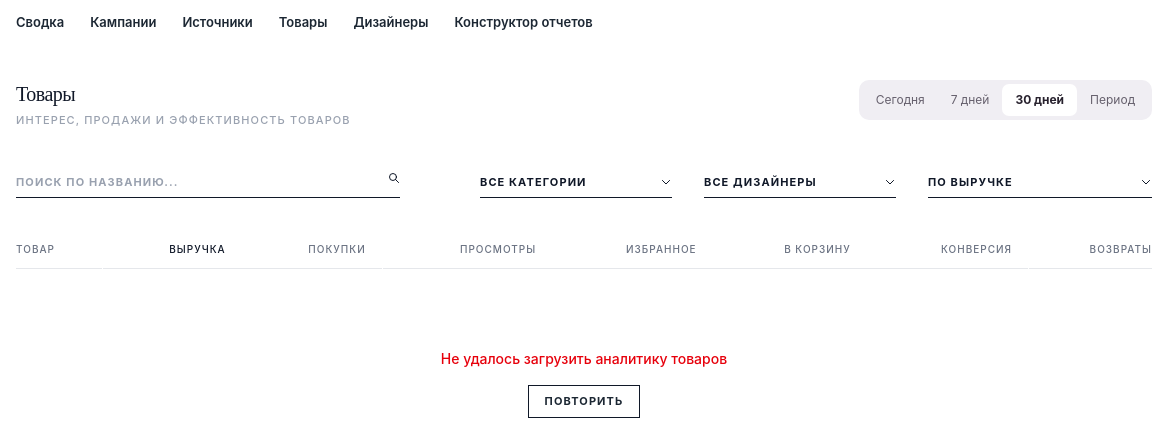
Test case: AdminMarketingProducts Component Tests › 4. error state and retry button refetches data upon click
Expected: the text "Не удалось загрузить аналитику товаров" is shown, [441,350,727,367]
Step 1. Click the button "Повторить" → (584, 402), box [528,385,640,418]
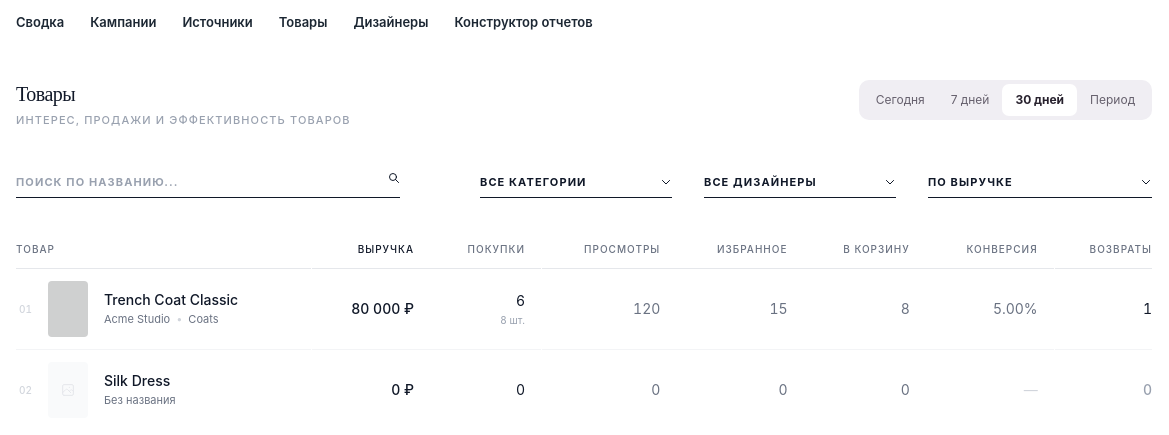
Expected: the text "Trench Coat Classic" is shown, [104,290,238,310]
Expected: the text "Не удалось загрузить аналитику товаров" is gone
